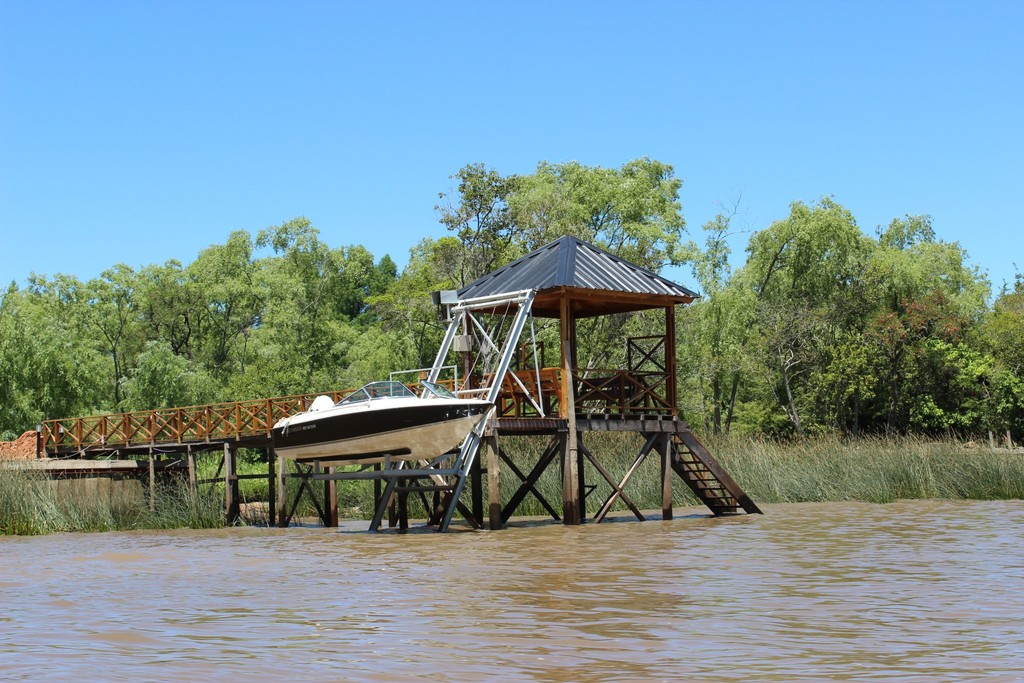Tree: (0, 163, 1024, 449)
